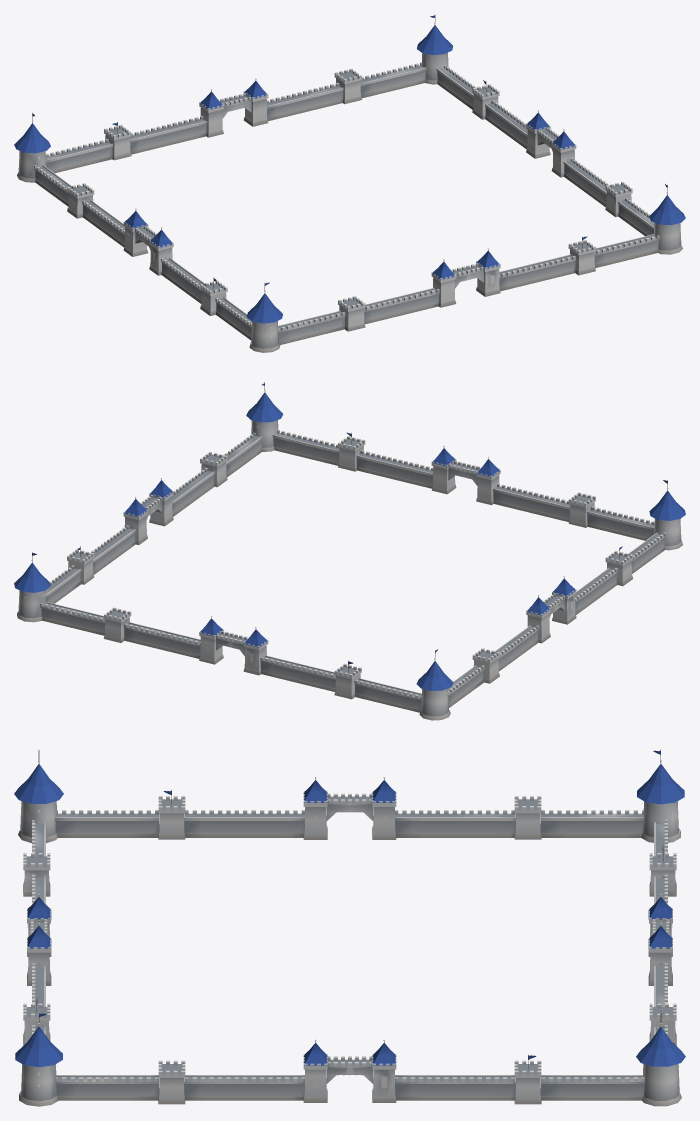
The model's file is city_wall.glb.
The picture shows the model from 3 angles, top to bottom: view 1: azimuth 30°, elevation 25°; view 2: azimuth 150°, elevation 25°; view 3: azimuth 270°, elevation 25°; orthographic projection. The views are drawn at different scales.
Visible parts, largest first — view 1: city_wall; view 2: city_wall; view 3: city_wall.
Part boxes in pixels (x1,y1,x2,y2): city_wall: (14, 14, 685, 352); city_wall: (14, 381, 685, 720); city_wall: (14, 749, 685, 1106).
Size of the model in its own units: 46.03 by 6.47 by 46.03.
